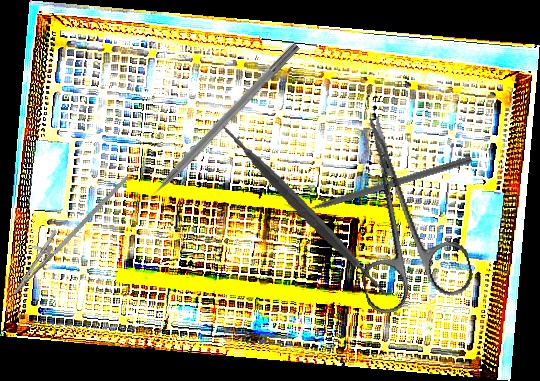Chopper: (283, 146, 474, 219)
Iris Scissors: (324, 101, 477, 318)
Needle Holder: (2, 155, 130, 308)
Pusher: (131, 40, 301, 215)
Spatula Surgical: (198, 105, 406, 309)
